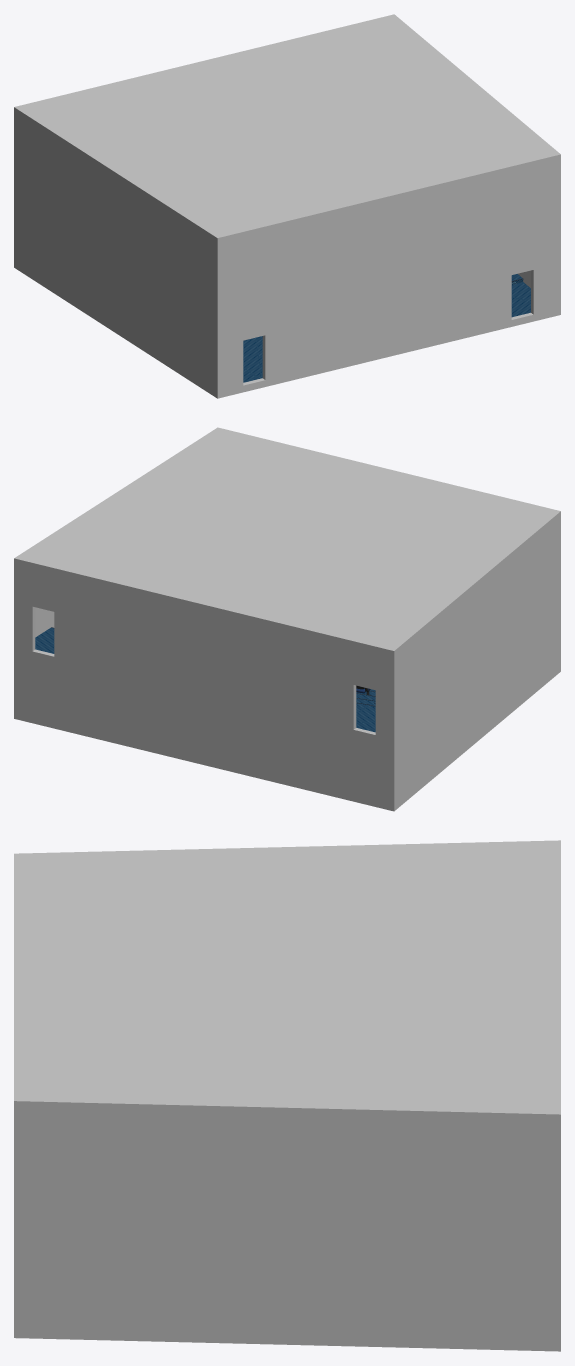
File: CinemaHall04.FBX
3 renders of one model, top to bottom at view 1: azimuth 30°, elevation 25°; view 2: azimuth 150°, elevation 25°; view 3: azimuth 270°, elevation 25°, orthographic. The views are drawn at different scales.
Visible parts, largest first — view 1: Cinema04Wall, Cinema04Floor; view 2: Cinema04Wall, Cinema04Floor; view 3: Cinema04Wall.
Boxes of the visible parts, x1,y1,x2,y2 form: Cinema04Wall: (14,14,560,398); Cinema04Floor: (243,274,530,382); Cinema04Wall: (14,427,560,811); Cinema04Floor: (35,627,375,732); Cinema04Wall: (14,840,560,1351).
Bounding box in the file's own units: 1953 × 787 × 1647.
